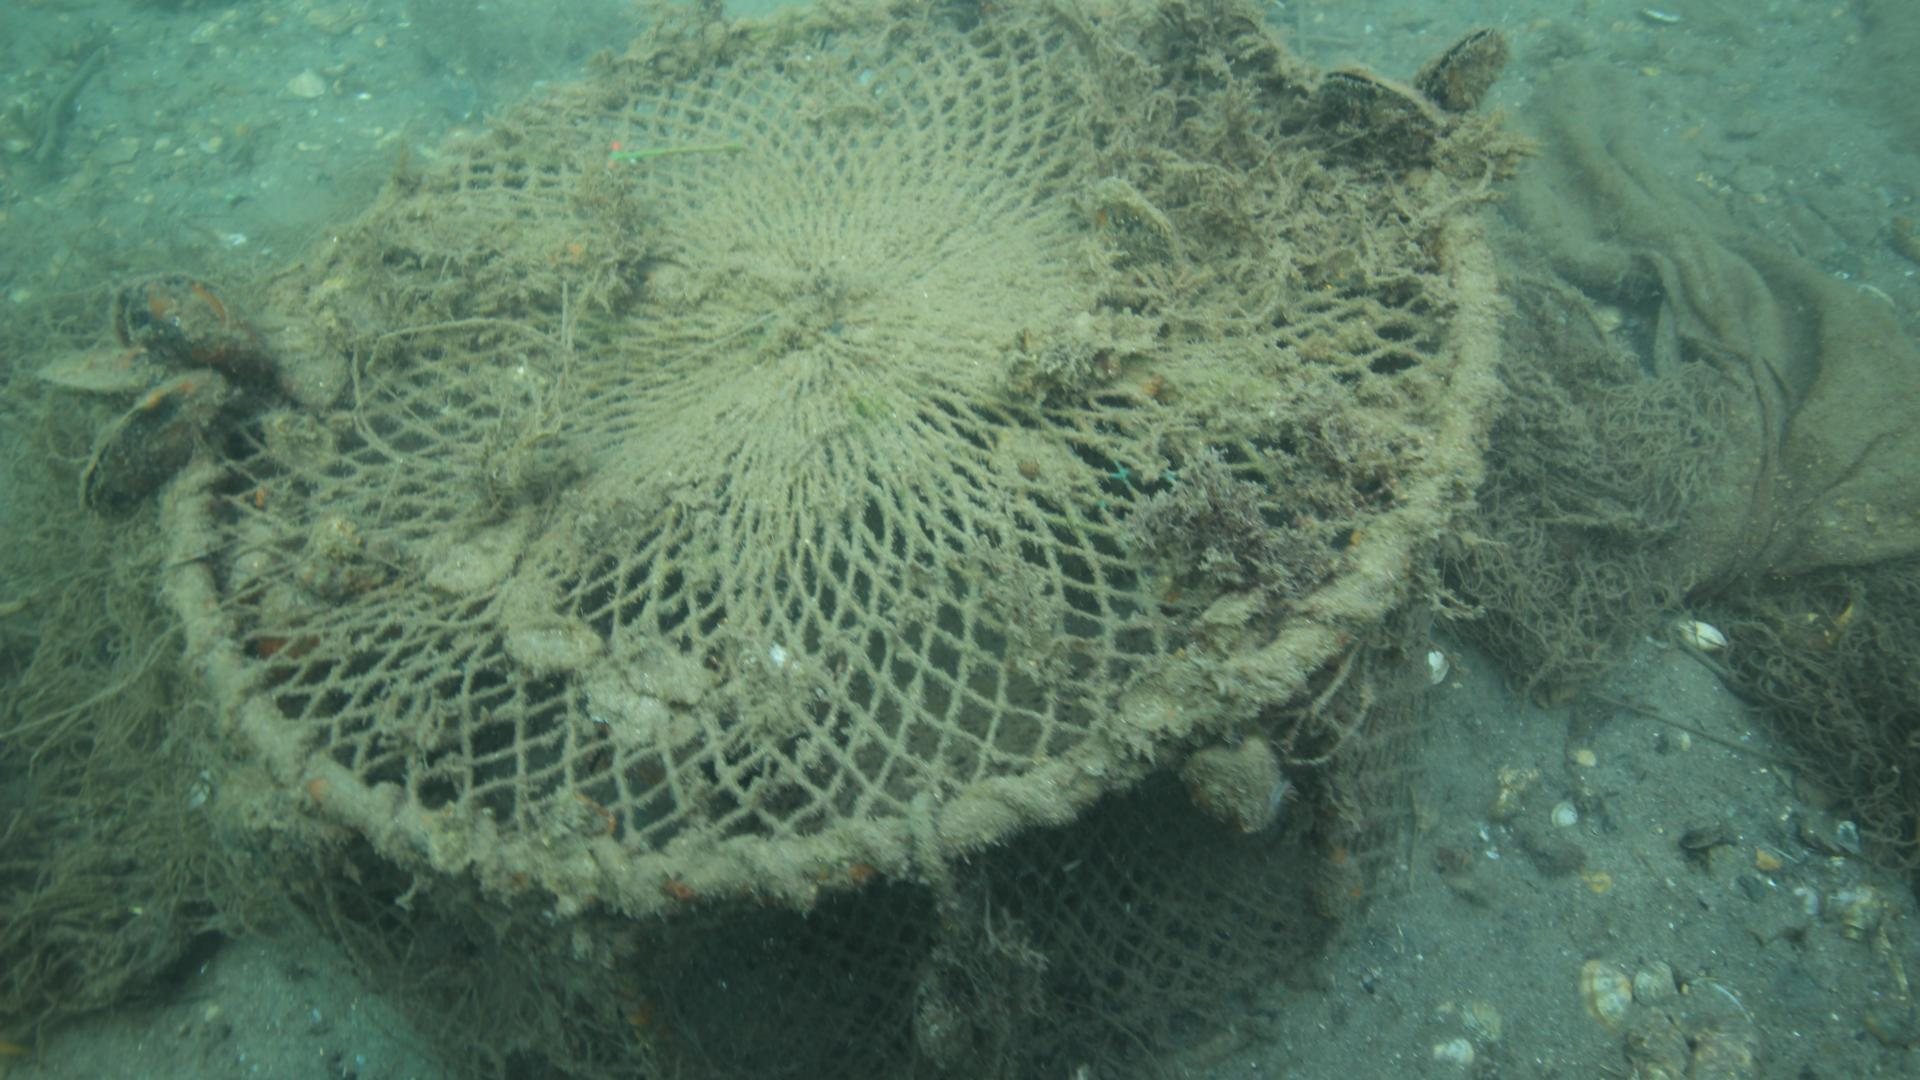circular fish trap: (146, 0, 1516, 1080)
